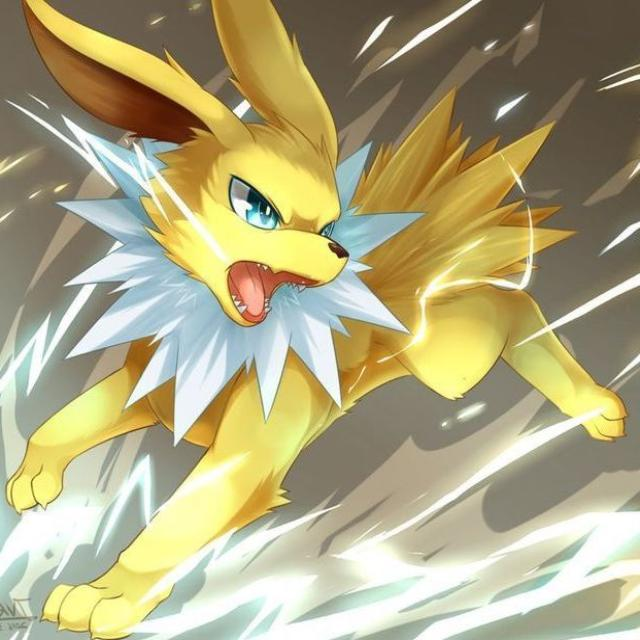Jolteon: (64, 83, 567, 471)
